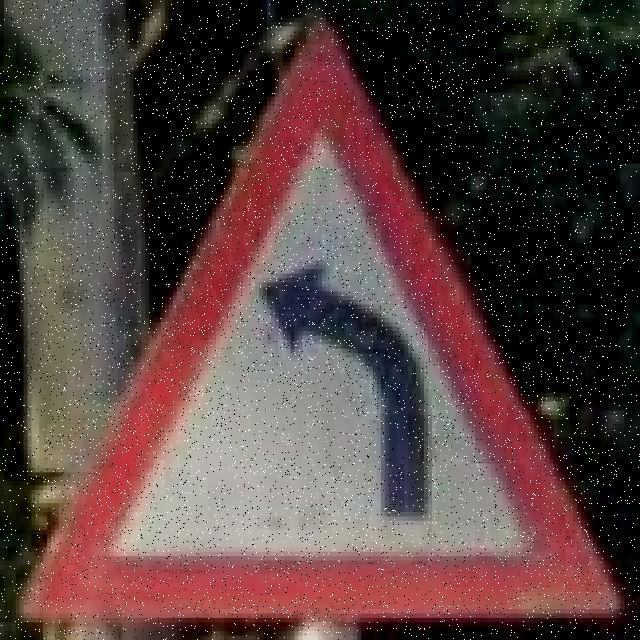Left-Turn: (15, 8, 640, 640)
